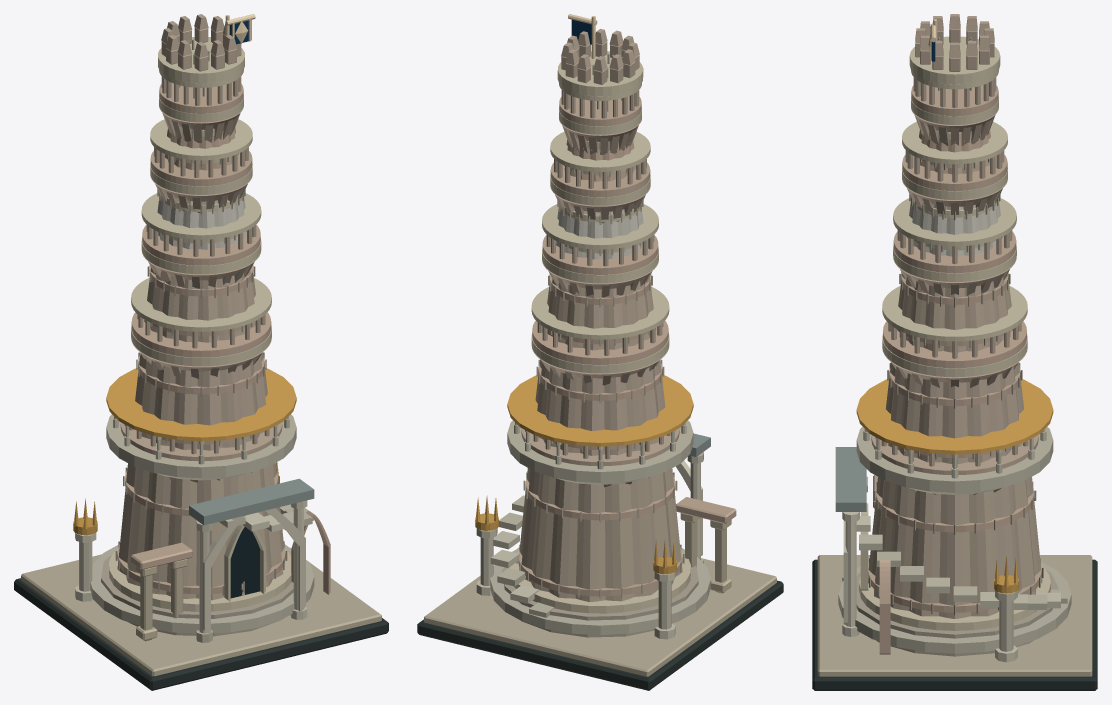
3 renders of one model, left to right at view 1: azimuth 30°, elevation 25°; view 2: azimuth 150°, elevation 25°; view 3: azimuth 270°, elevation 25°, orthographic. The views are drawn at different scales.
Parts seen in each view (by area): view 1: archer_tower_L5_0, archer_tower_L5_1; view 2: archer_tower_L5_0, archer_tower_L5_1; view 3: archer_tower_L5_0, archer_tower_L5_1.
Boxes of the visible parts, box(x1,y1,x2,y2) form: archer_tower_L5_0: box(14, 14, 388, 690); archer_tower_L5_1: box(73, 14, 296, 535); archer_tower_L5_0: box(417, 19, 783, 690); archer_tower_L5_1: box(475, 14, 693, 574); archer_tower_L5_0: box(812, 14, 1097, 690); archer_tower_L5_1: box(856, 19, 1053, 593).
Size of the model in its own units: 3.6 by 8.63 by 3.6.
